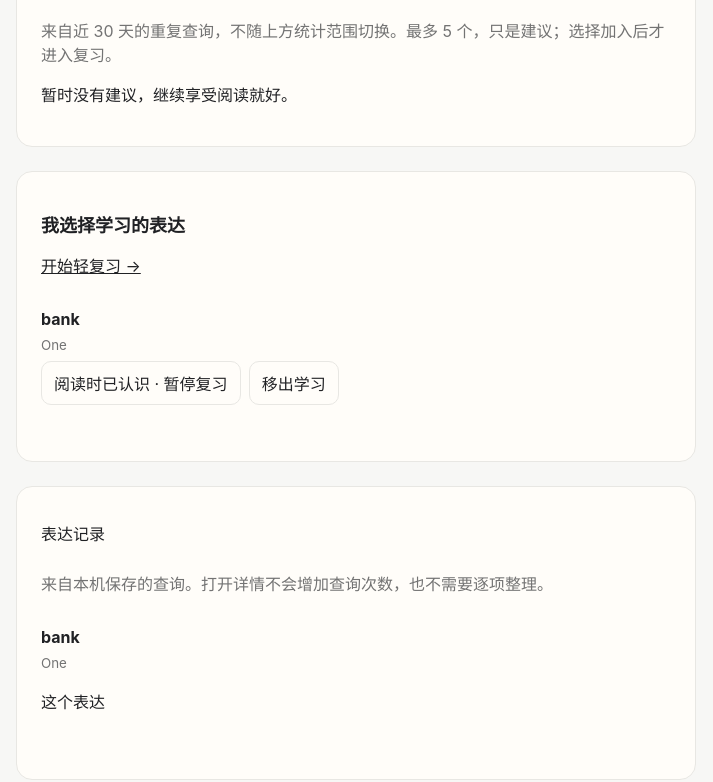
Test case: statistics uses the new state and provides historical expression details without creating lookups
(page scrolled)
Expected: the element showing "表达记录 来自本机保存的查询。打开详情不会增加查询次数，也不需要逐项整理。 bank One 这个表达" is shown, x1=16 y1=486 x2=696 y2=780
What coordinates should you click on to do the following:
click the button "移出学习"
I would click on:
 (294, 383)
Its box is x1=249 y1=361 x2=339 y2=405.
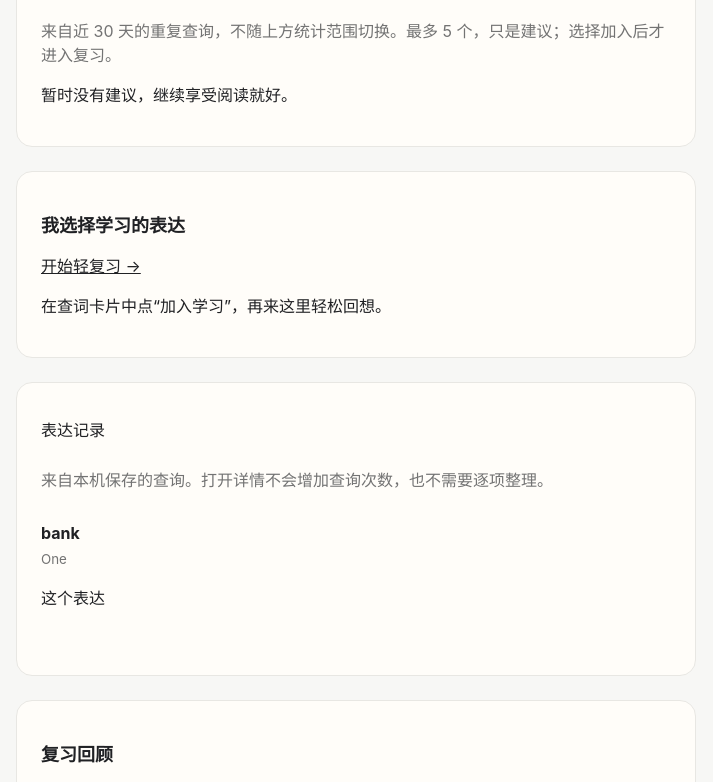
Expected: the button with class "selected-learning" no longer shows "暂停复习"
